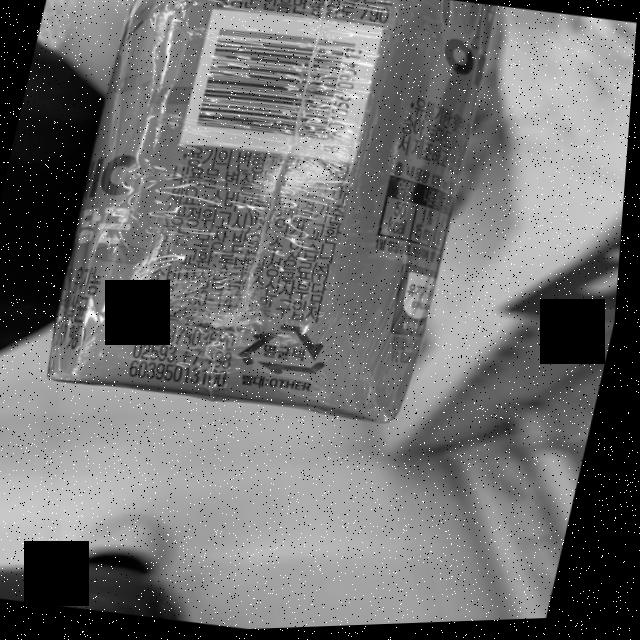SterilizedPack: (240, 317, 341, 387)
